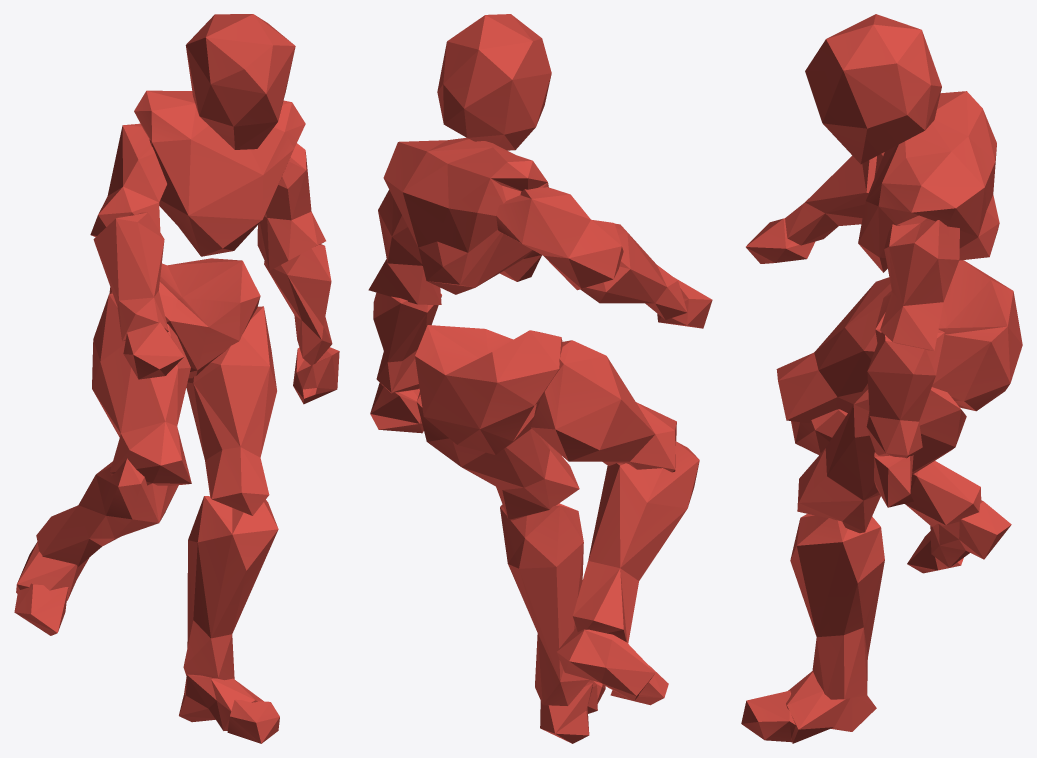
File: 2dancer0167.obj
3 renders of one model, left to right at view 1: azimuth 30°, elevation 25°; view 2: azimuth 150°, elevation 25°; view 3: azimuth 270°, elevation 25°, orthographic. The views are drawn at different scales.
Parts seen in each view (by area): view 1: Beta_Surface; view 2: Beta_Surface; view 3: Beta_Surface.
Part boxes in pixels (bbox=[...]): Beta_Surface: bbox=[14, 14, 339, 743]; Beta_Surface: bbox=[368, 14, 712, 743]; Beta_Surface: bbox=[741, 14, 1022, 743].
Size of the model in its own units: 0.8135 by 1.78 by 0.6161.
